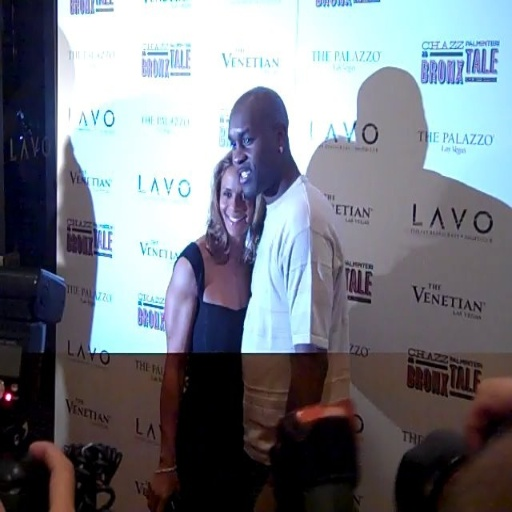hand: (19, 428, 84, 512), (464, 374, 511, 459), (142, 467, 182, 510), (256, 485, 275, 510)
